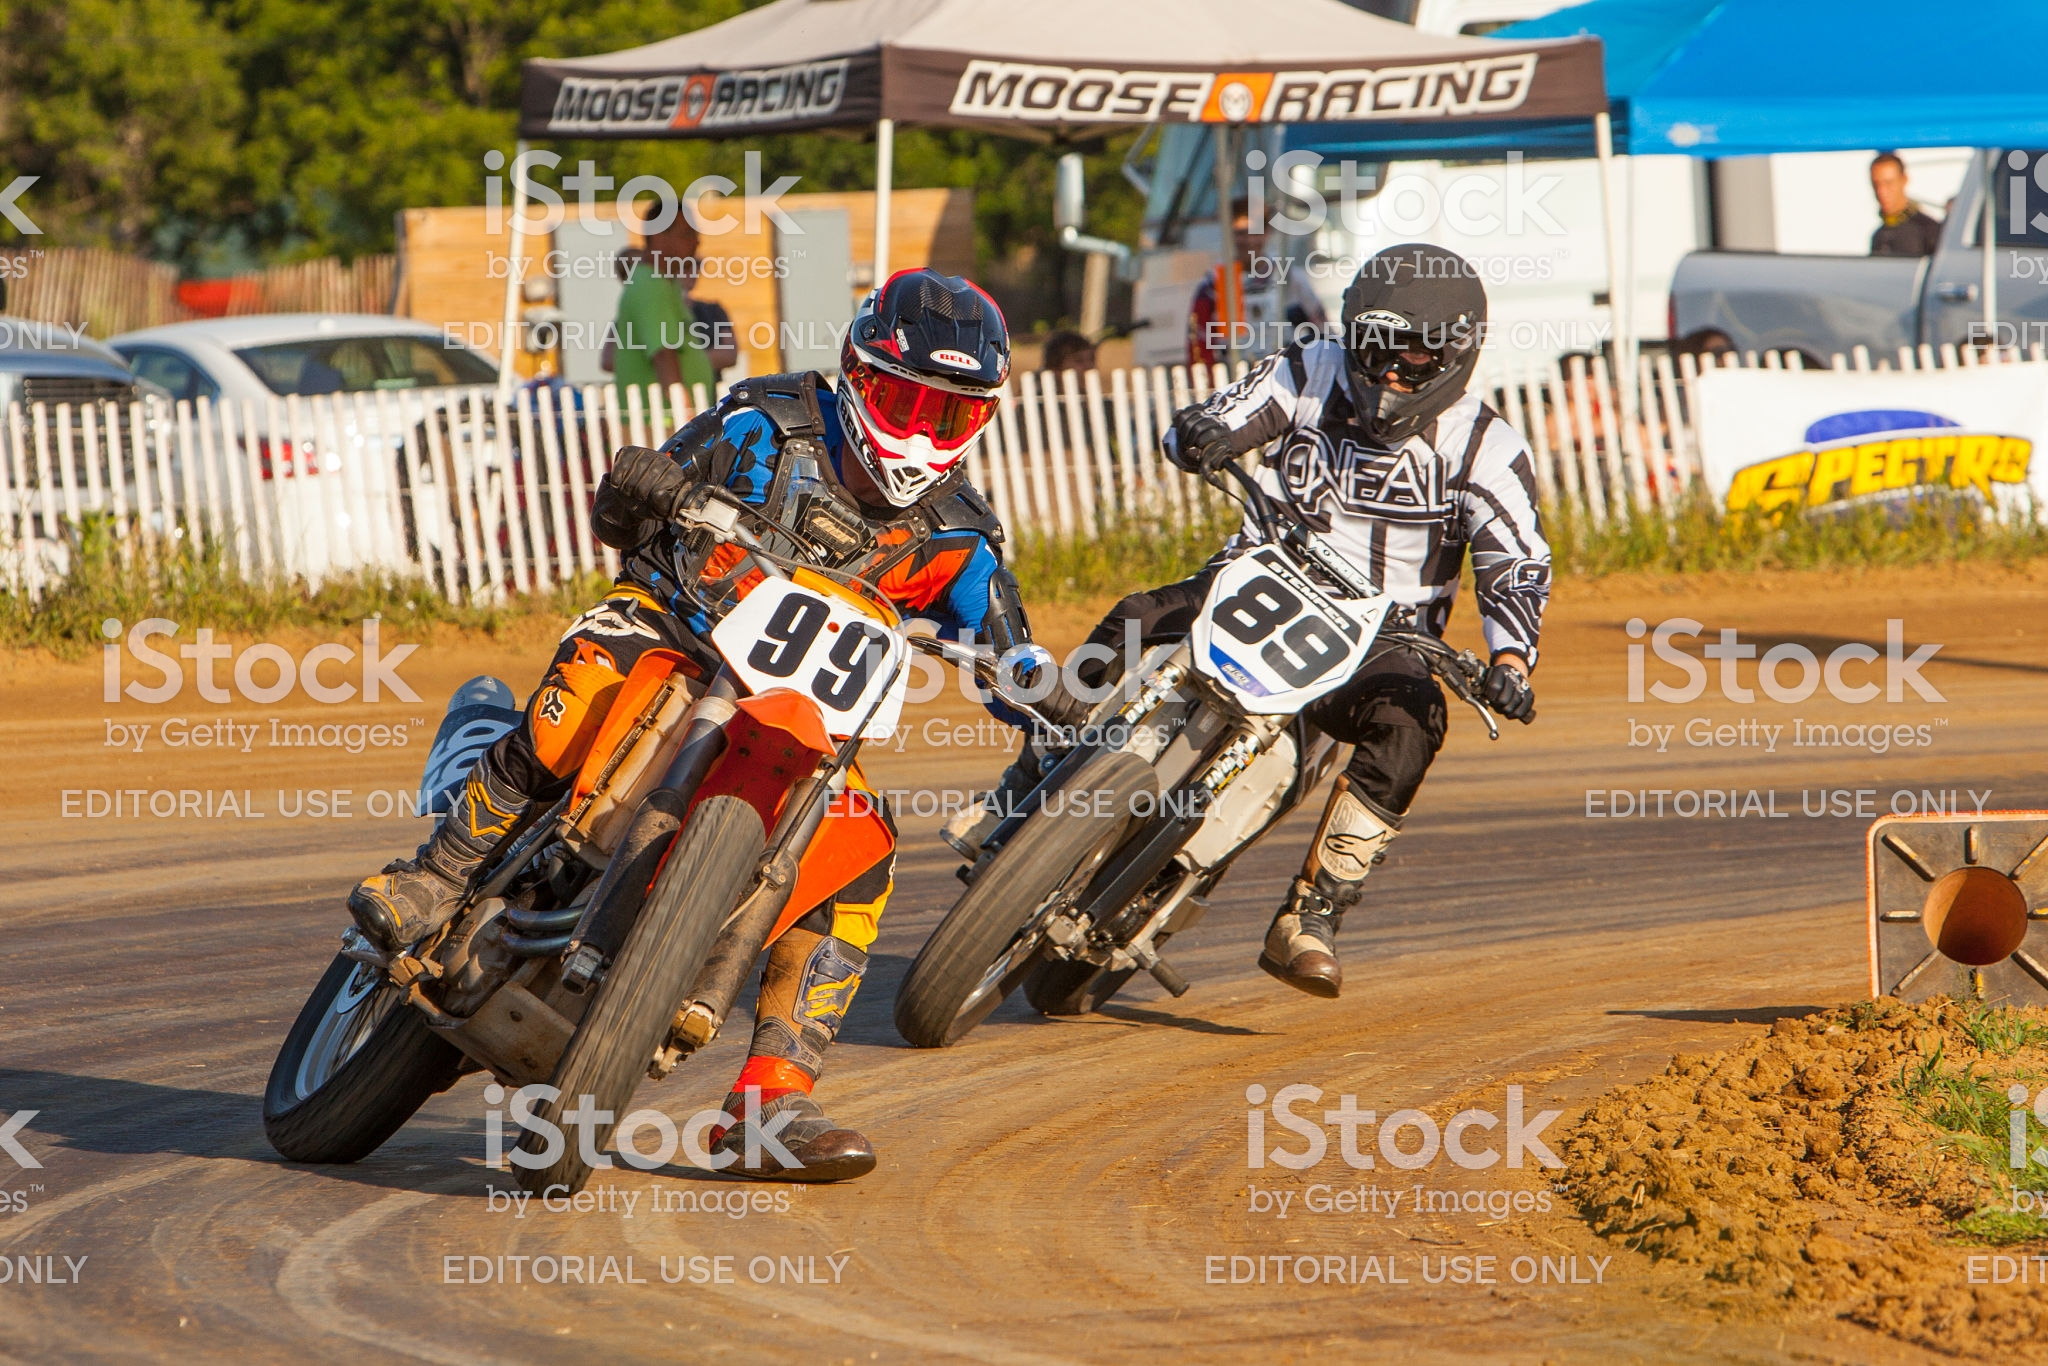helmet: (829, 274, 1038, 512), (1336, 239, 1498, 433)
